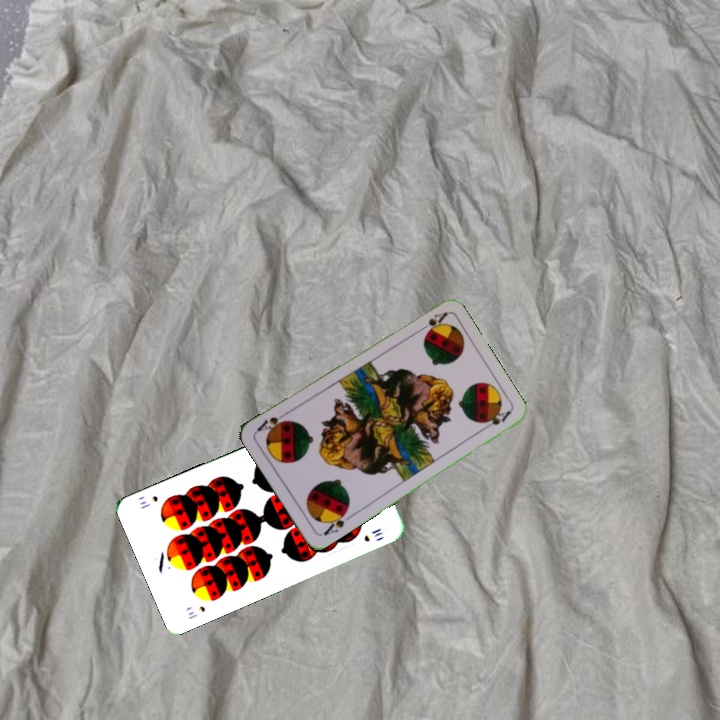S10: (183, 602, 208, 622)
SA: (413, 308, 450, 335), (319, 506, 350, 538)
